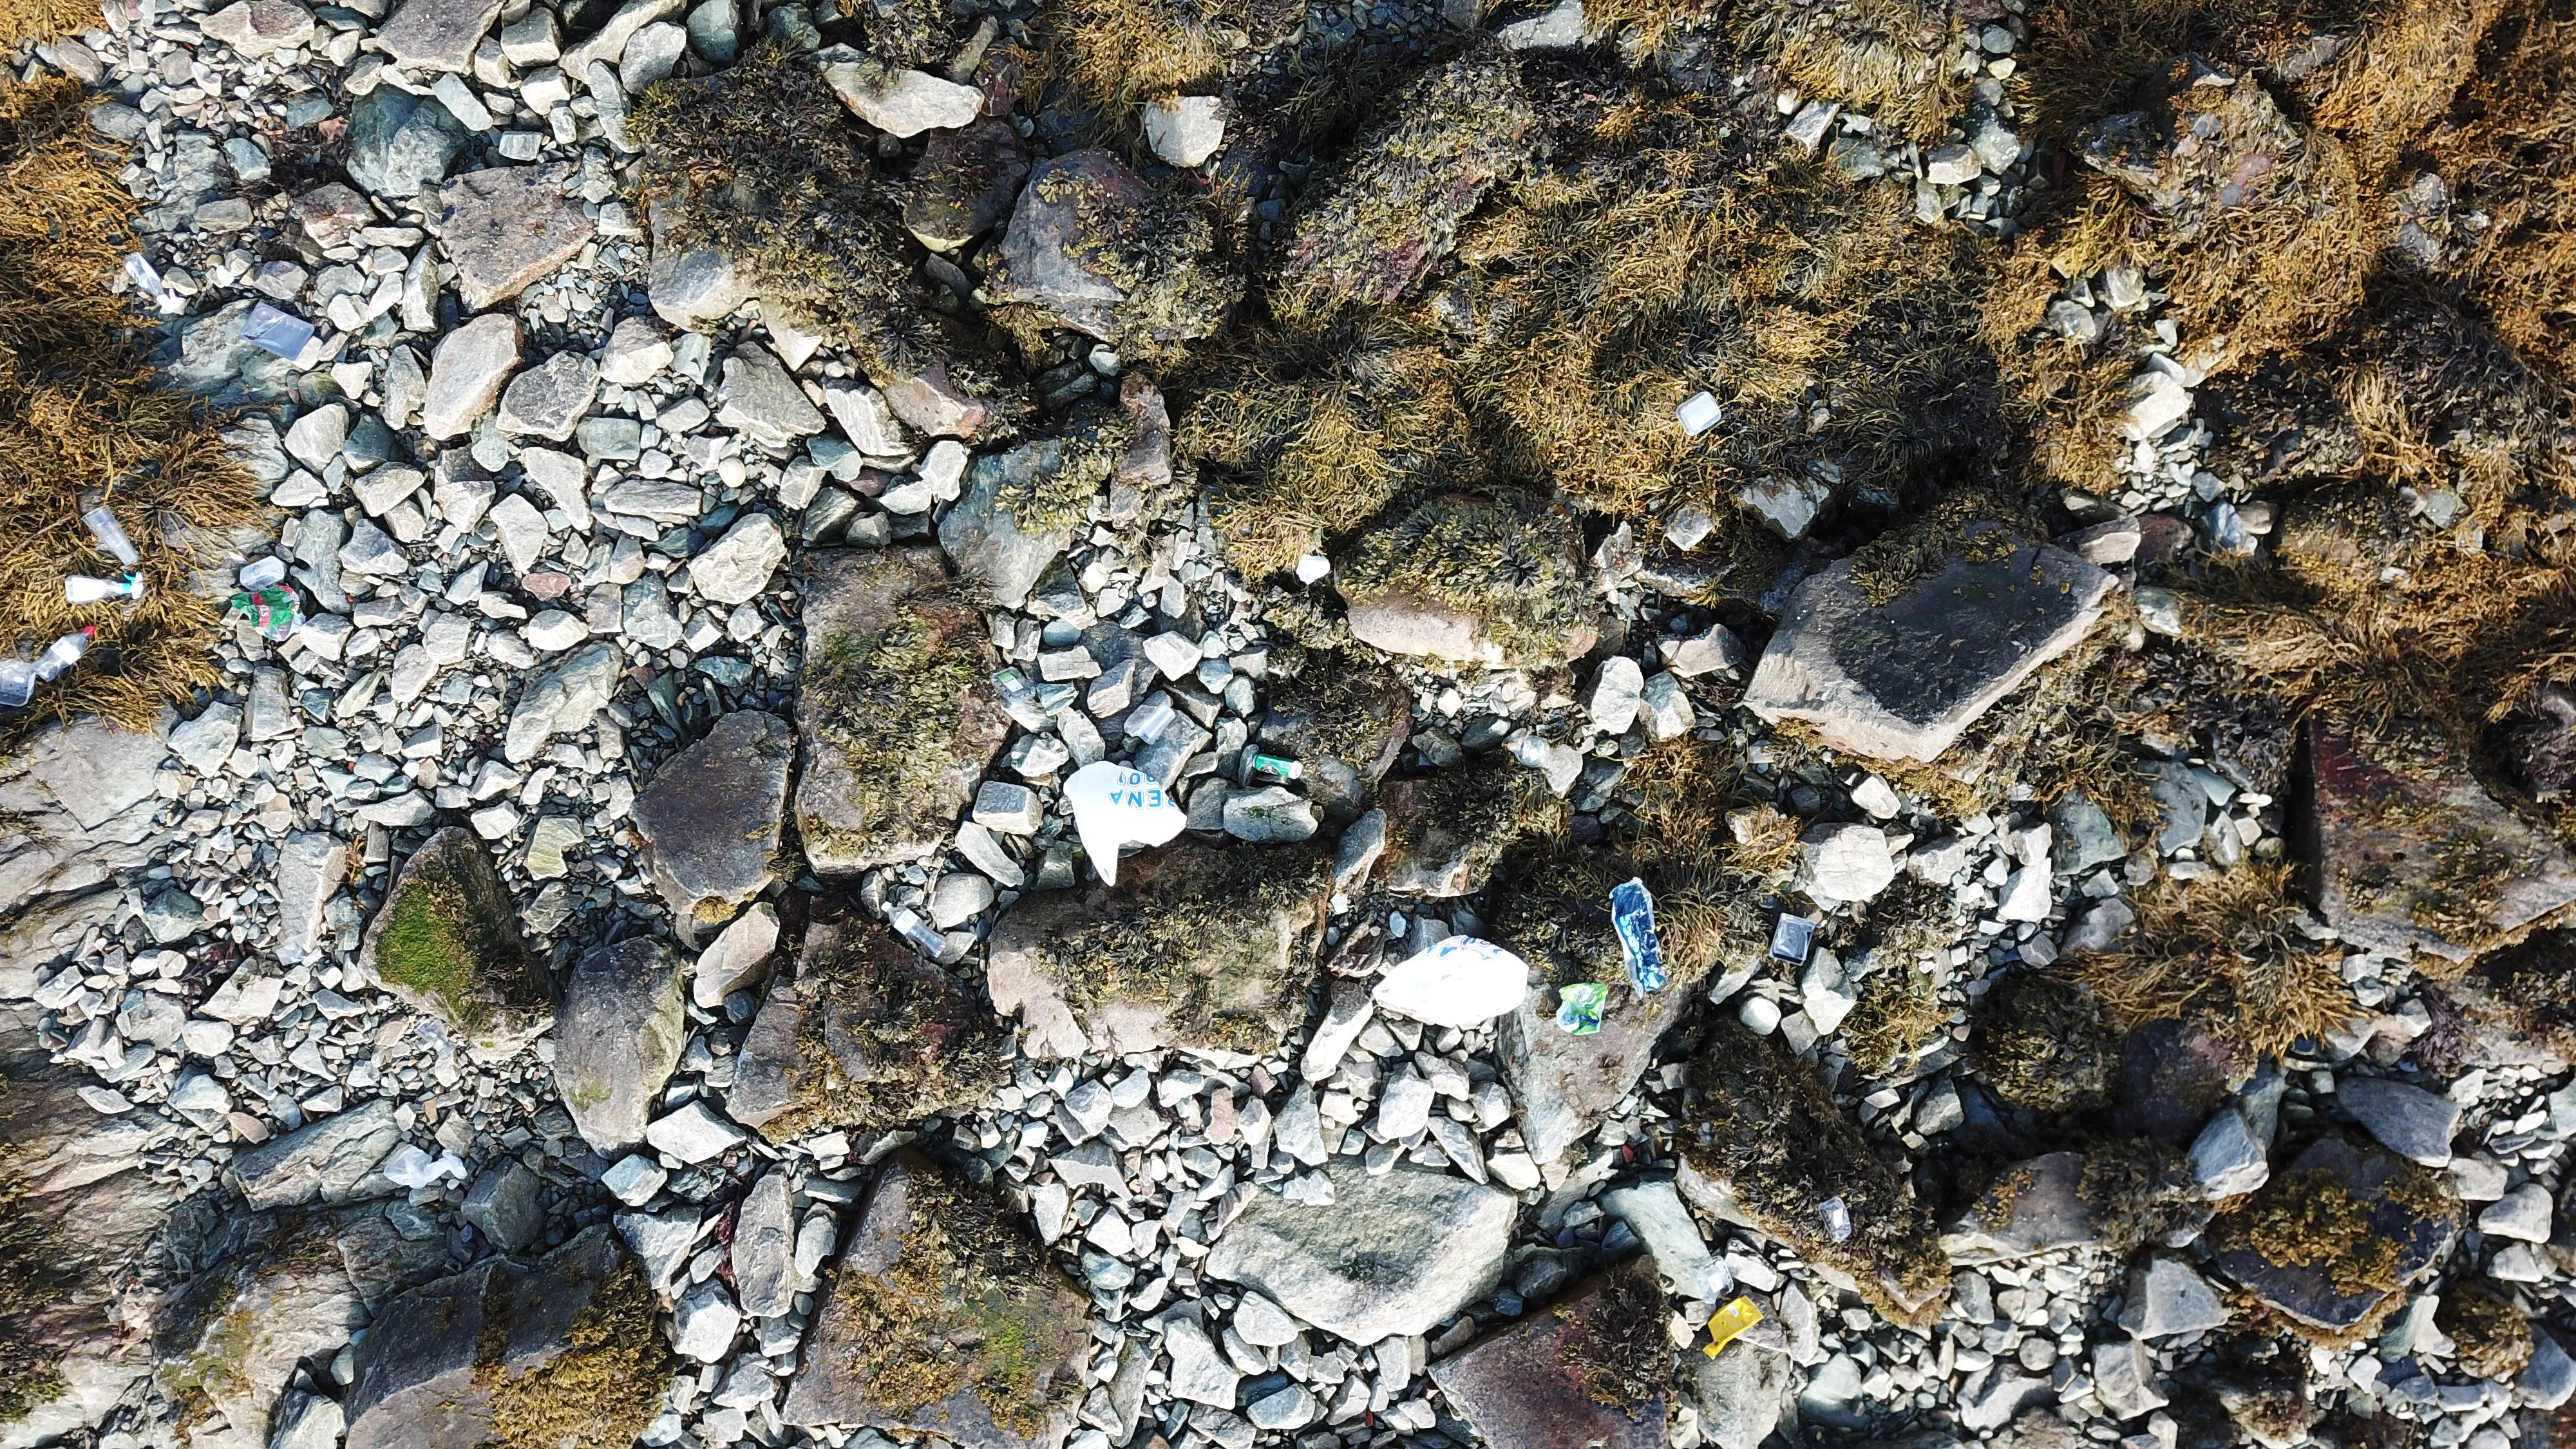Can: (1251, 754, 1306, 780)
Plastic: (1063, 759, 1191, 888), (1376, 934, 1530, 1030), (1610, 876, 1672, 1000), (230, 584, 306, 640), (241, 301, 317, 357), (382, 1143, 467, 1191), (124, 249, 184, 317), (1700, 1295, 1759, 1361), (81, 504, 140, 566), (67, 568, 145, 607), (1555, 982, 1608, 1035), (1771, 913, 1815, 968), (1675, 391, 1721, 435), (1499, 736, 1557, 770), (0, 656, 39, 706), (1821, 1192, 1854, 1244), (1698, 1254, 1734, 1302), (239, 554, 287, 586), (1297, 552, 1332, 586)
PlasticBottle: (881, 901, 950, 959), (32, 623, 97, 681)
